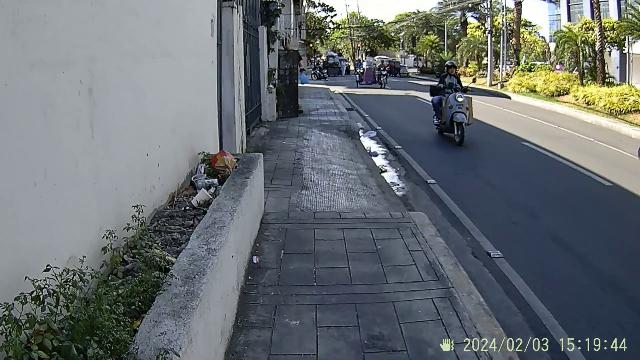motorcycle: (431, 84, 473, 148)
tricycle: (353, 53, 391, 91)
